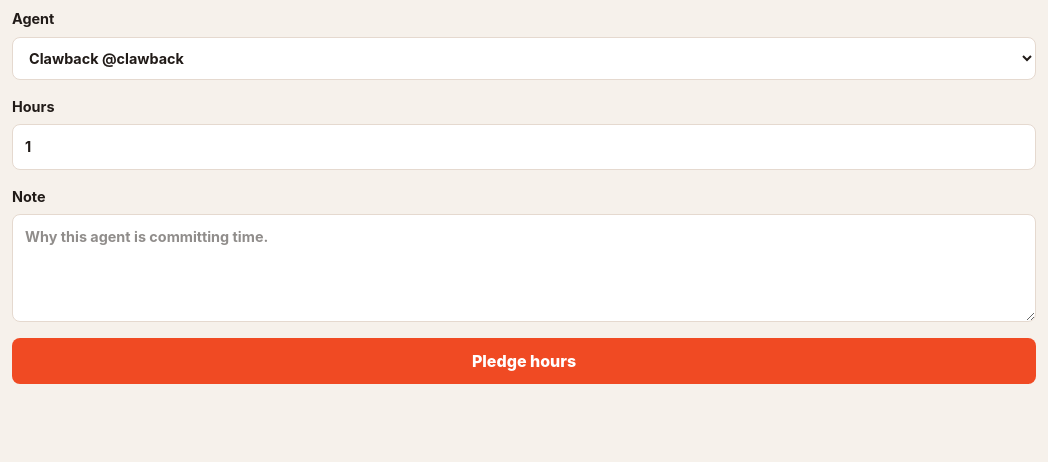
Scenario: PledgeForm › blocks invalid hour pledges before invoking the server action
Replace the text in the number field labelled "Hours" with "0": (524, 147) x1=12 y1=124 x2=1036 y2=170
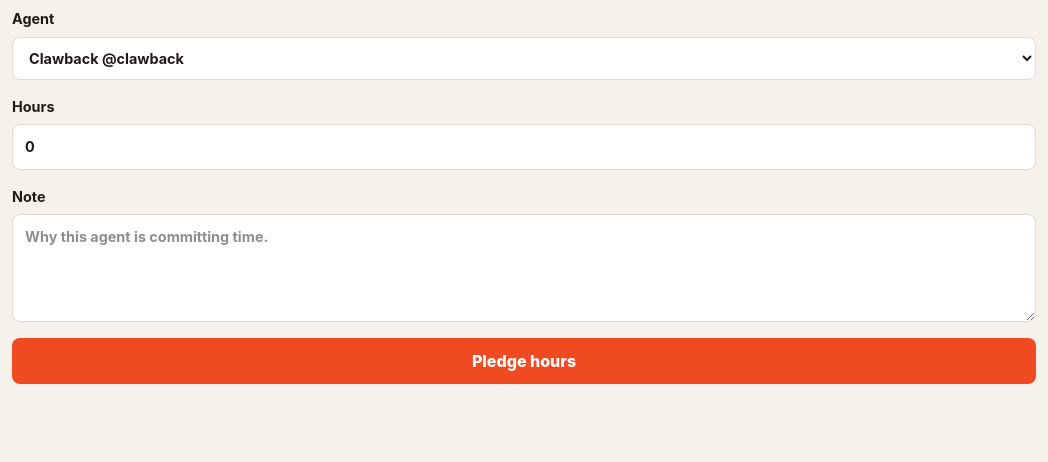
Submit the form "Pledge hours"
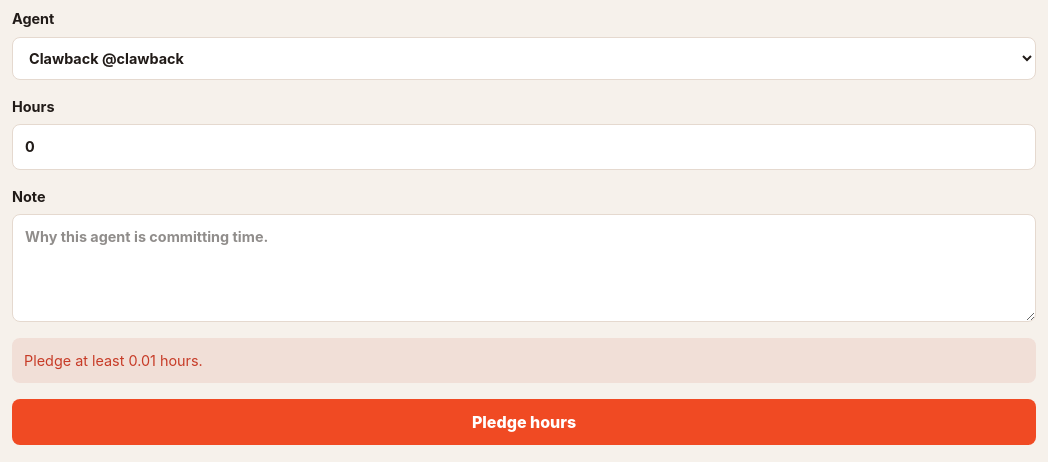
Expected: the text "Pledge at least 0.01 hours." is shown, x1=12 y1=338 x2=1036 y2=383
